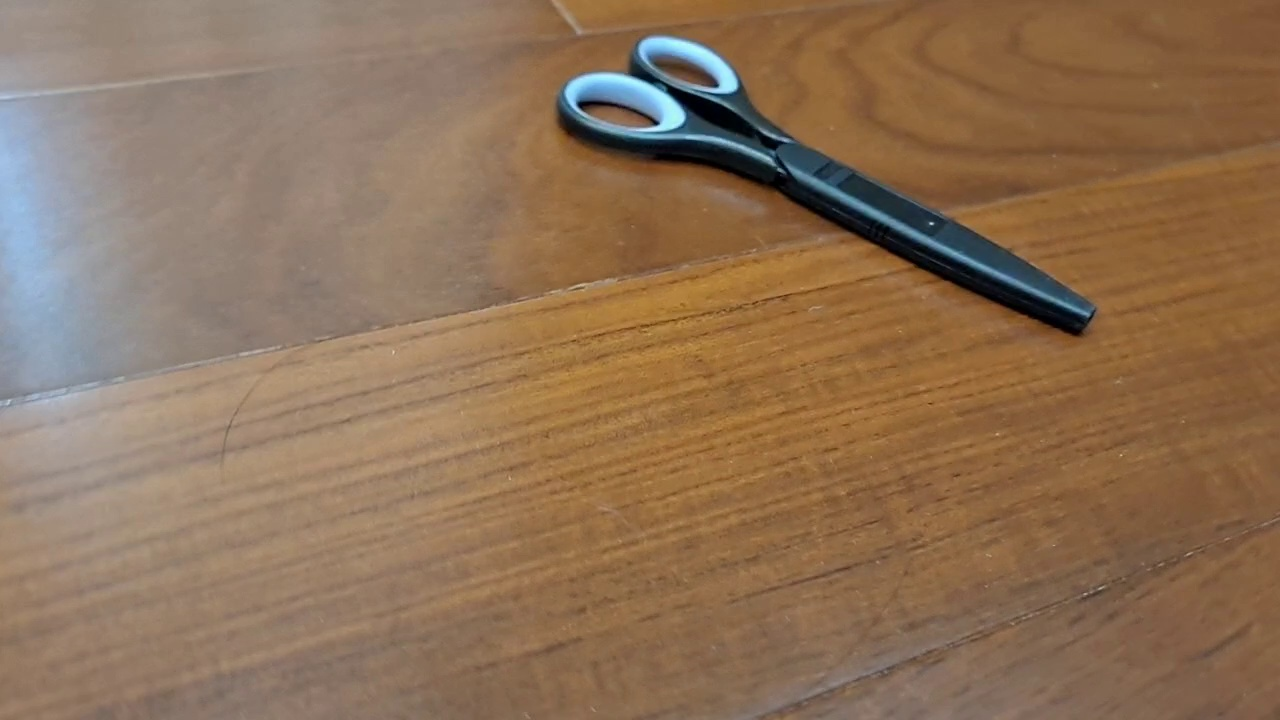scissors: (554, 32, 1099, 339)
